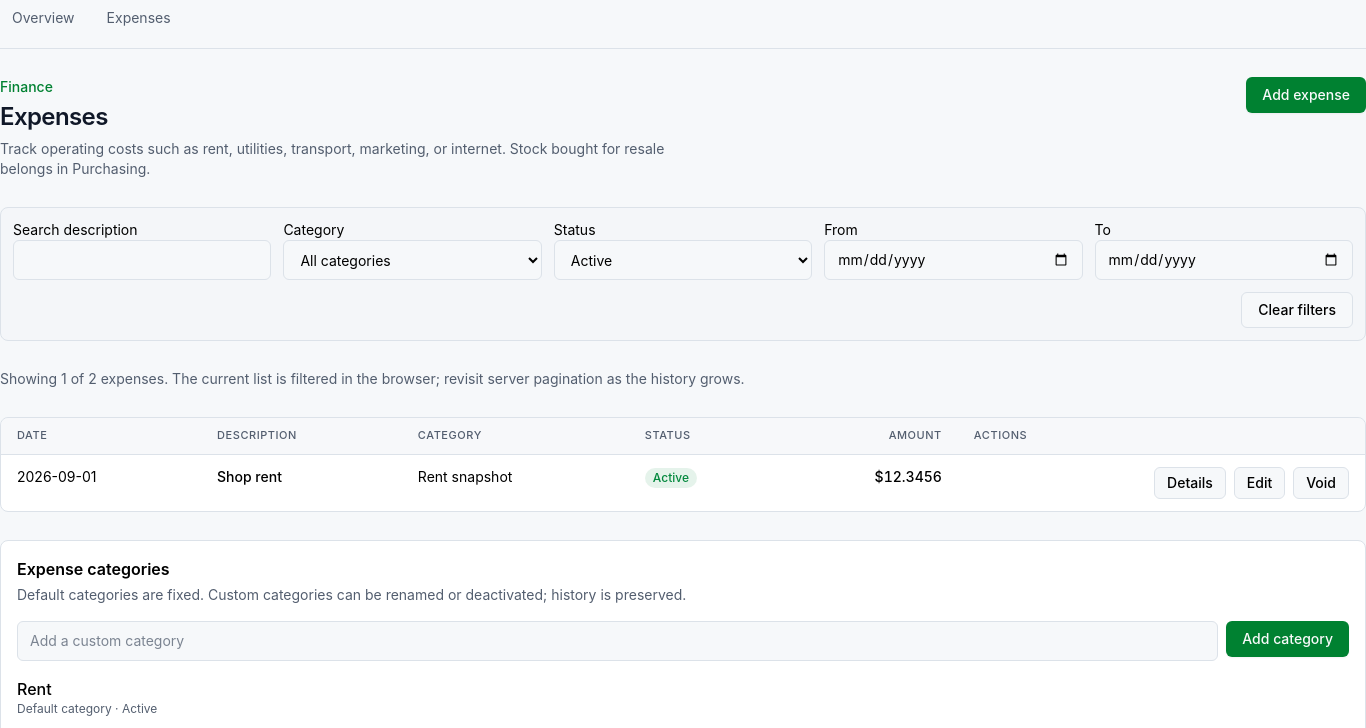
it: Finance expense management › rejects invalid amount 0 at form validation
Click the button "Add expense": (1306,95) [1246,77,1365,113]
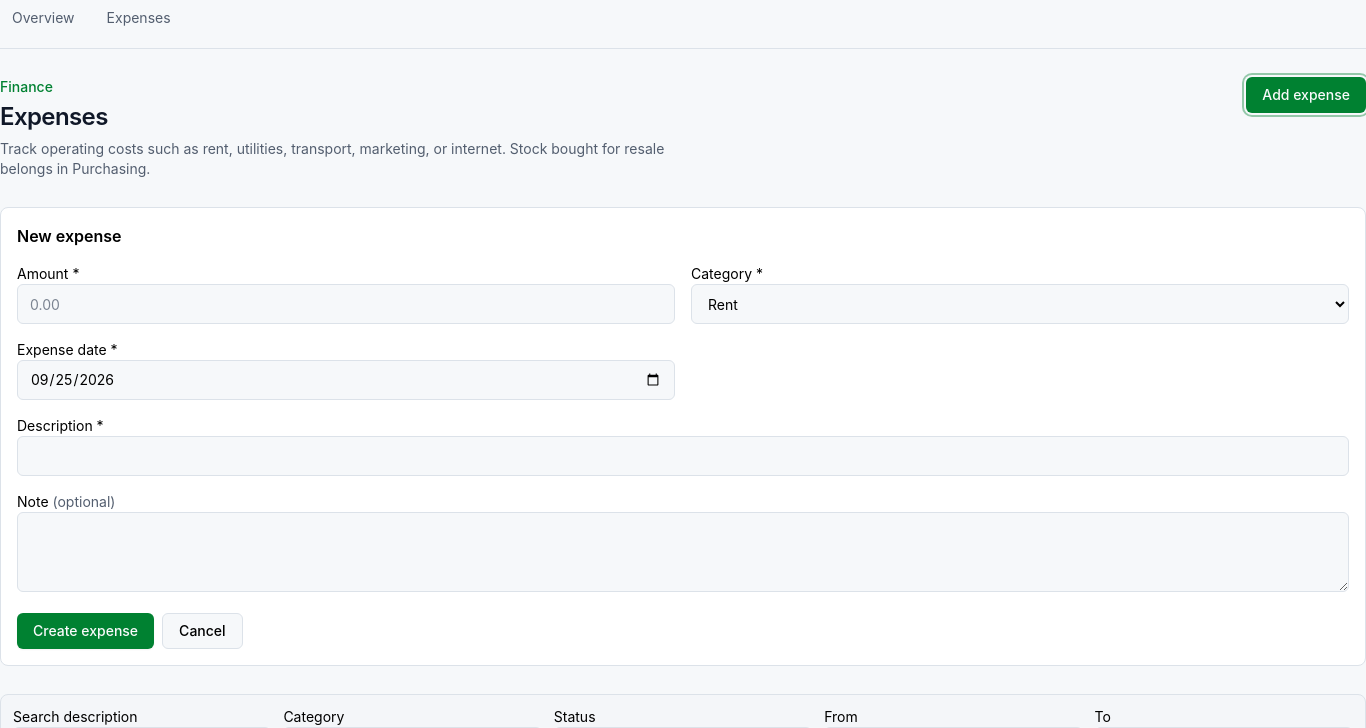
In the field labelled "Amount *": (346,304) [17,284,675,324], type "0"
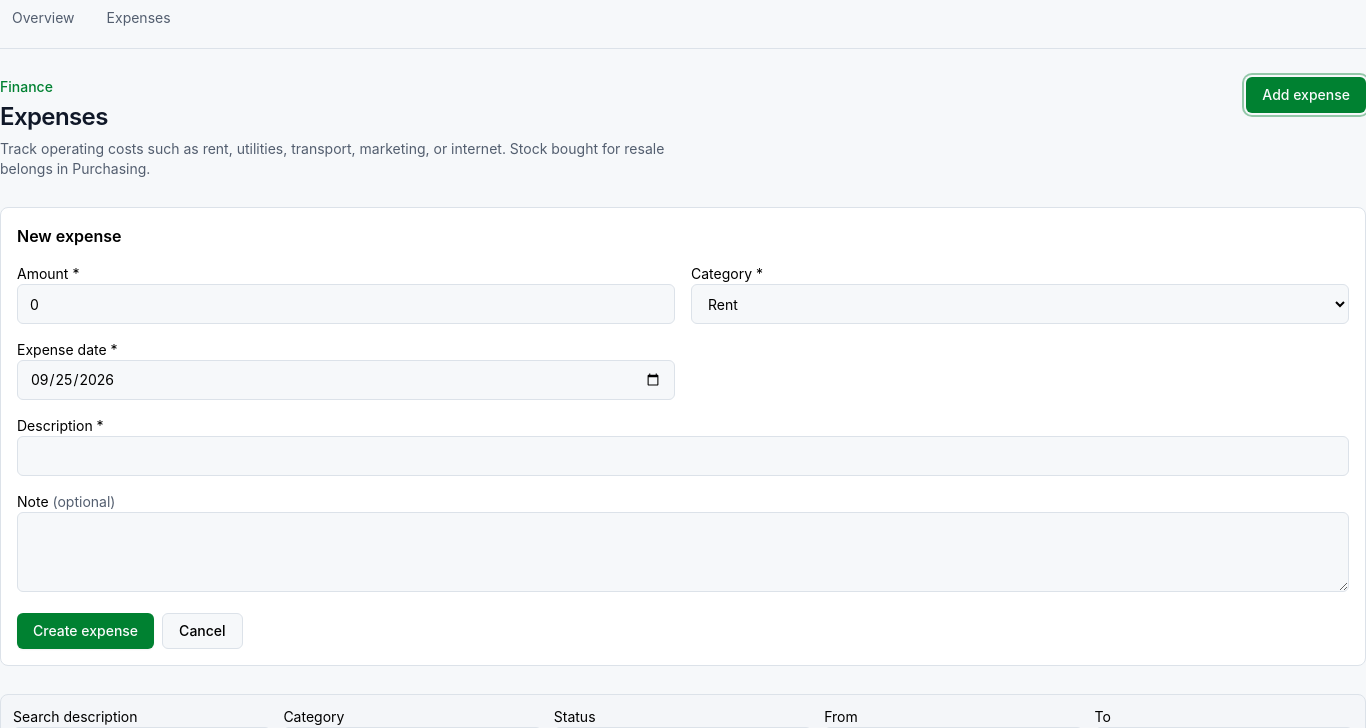
Click the button "Create expense": (86,631) [17,613,154,649]
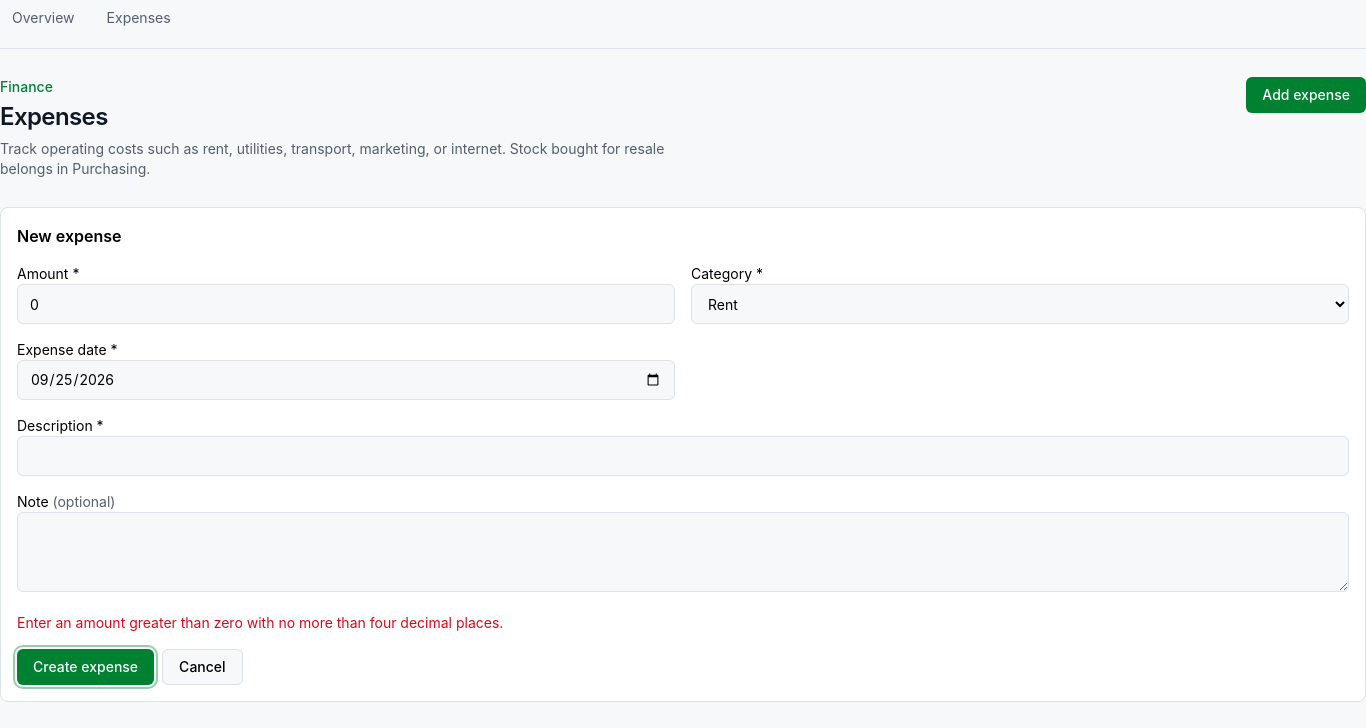
Now the message shows "amount greater than zero", box [17,614,503,631]
